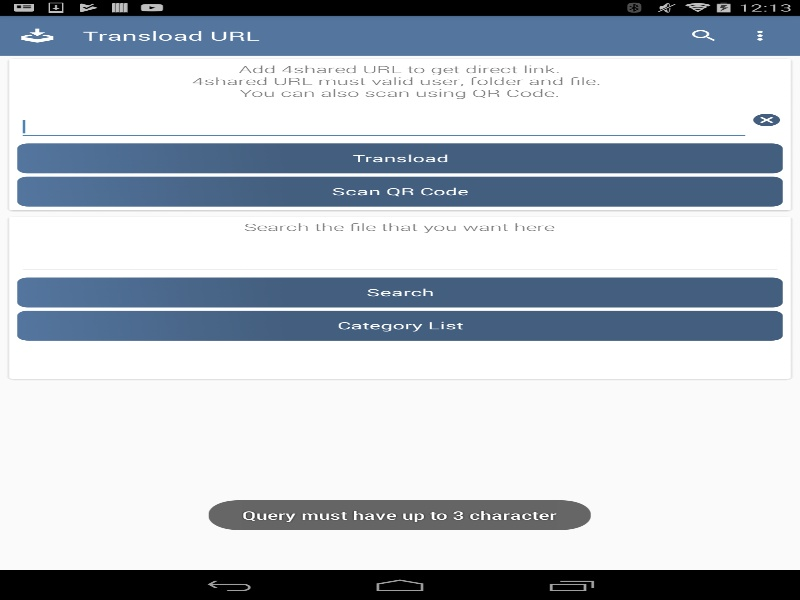Button: (17, 143, 782, 173), (17, 176, 782, 206), (17, 277, 782, 307), (17, 310, 782, 340)
Input: (17, 247, 782, 274), (17, 113, 750, 140)
